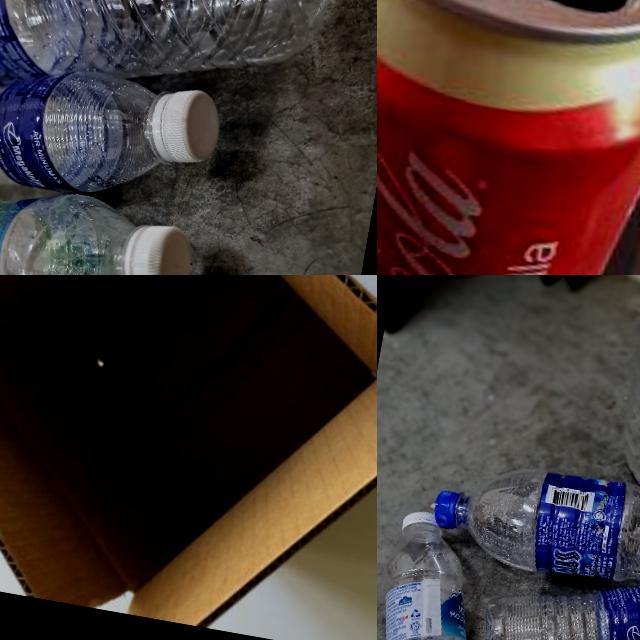garrafa plástica: (0, 0, 347, 145), (0, 38, 174, 220), (456, 457, 640, 610), (0, 164, 148, 275), (377, 531, 513, 640), (479, 558, 640, 640)
lata: (377, 0, 640, 275)
papelão: (0, 275, 377, 640)
tampa plástica: (155, 86, 226, 170), (127, 221, 200, 275), (431, 488, 467, 535), (399, 504, 441, 540)
